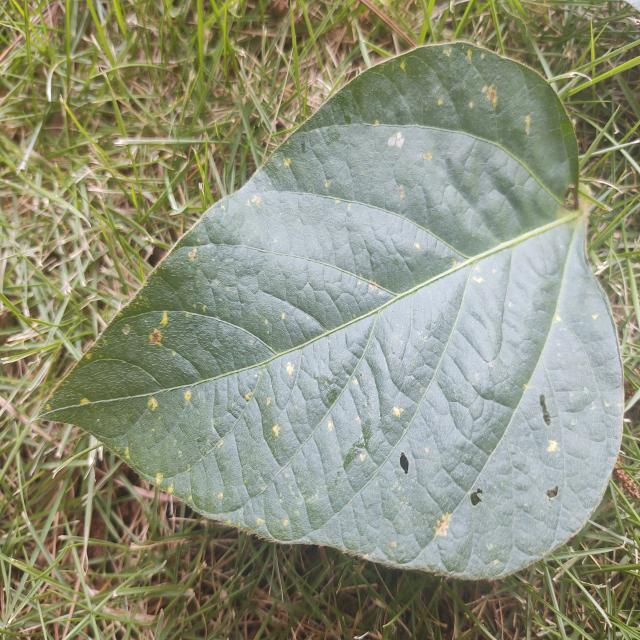Soybean: (44, 40, 627, 583)
downey_mildew: (88, 250, 277, 429), (452, 411, 559, 567), (466, 78, 544, 188), (447, 45, 522, 149), (468, 469, 516, 568), (144, 247, 211, 314), (130, 323, 191, 384), (434, 511, 451, 538), (148, 327, 163, 346), (245, 194, 261, 210), (147, 397, 158, 411), (546, 440, 558, 452), (188, 247, 198, 261), (159, 311, 168, 326), (393, 406, 404, 418), (397, 185, 405, 199), (472, 275, 484, 284), (121, 324, 130, 335), (155, 473, 163, 485), (423, 151, 432, 161), (400, 60, 407, 72), (442, 48, 451, 57), (283, 157, 291, 167), (467, 48, 473, 61), (124, 447, 130, 459), (256, 518, 265, 525), (481, 84, 488, 93), (80, 398, 90, 404), (591, 313, 599, 320), (167, 485, 173, 494), (324, 181, 331, 188), (414, 242, 420, 250), (374, 119, 380, 126), (487, 544, 493, 551), (604, 401, 611, 407), (390, 541, 397, 547), (335, 198, 341, 204), (438, 99, 443, 106), (283, 519, 288, 526), (452, 259, 457, 266), (424, 446, 429, 453), (281, 312, 285, 320), (469, 101, 473, 108), (264, 319, 268, 325)
